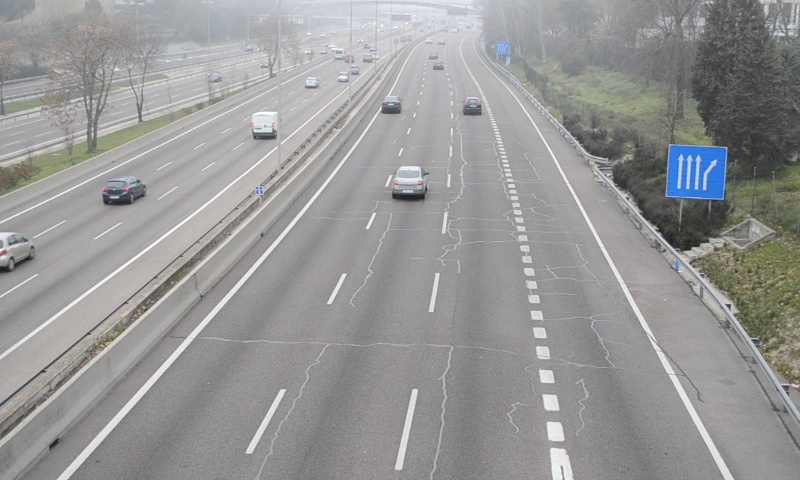car: (393, 167, 425, 196), (462, 97, 482, 116), (381, 96, 401, 114)
